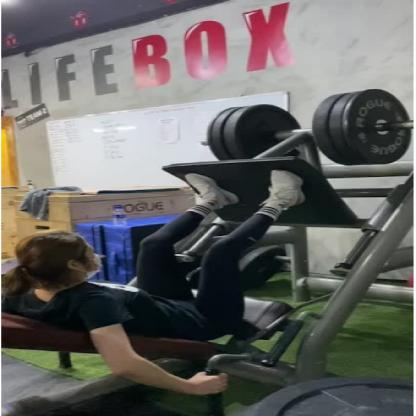leg press: (0, 84, 416, 416)
